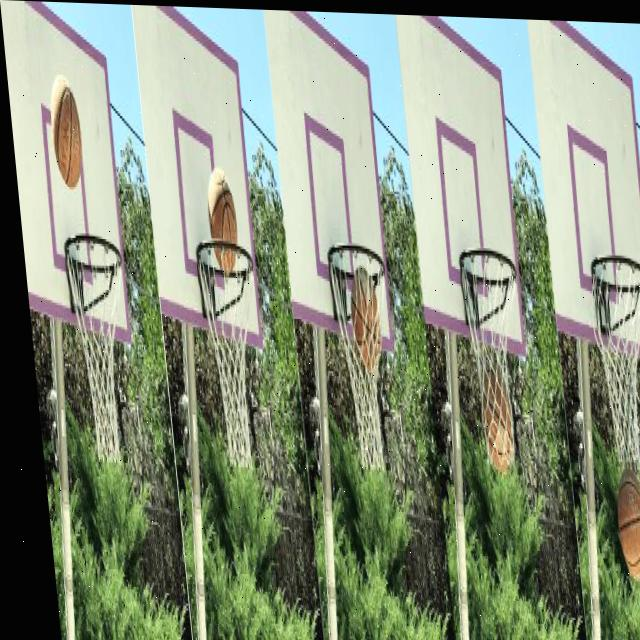basketball: (46, 75, 86, 188), (479, 364, 518, 474), (204, 165, 242, 275), (347, 265, 385, 374), (613, 467, 640, 582)
hoop: (194, 237, 273, 470), (62, 232, 141, 464), (326, 242, 404, 470), (458, 247, 536, 471), (586, 254, 640, 482)
